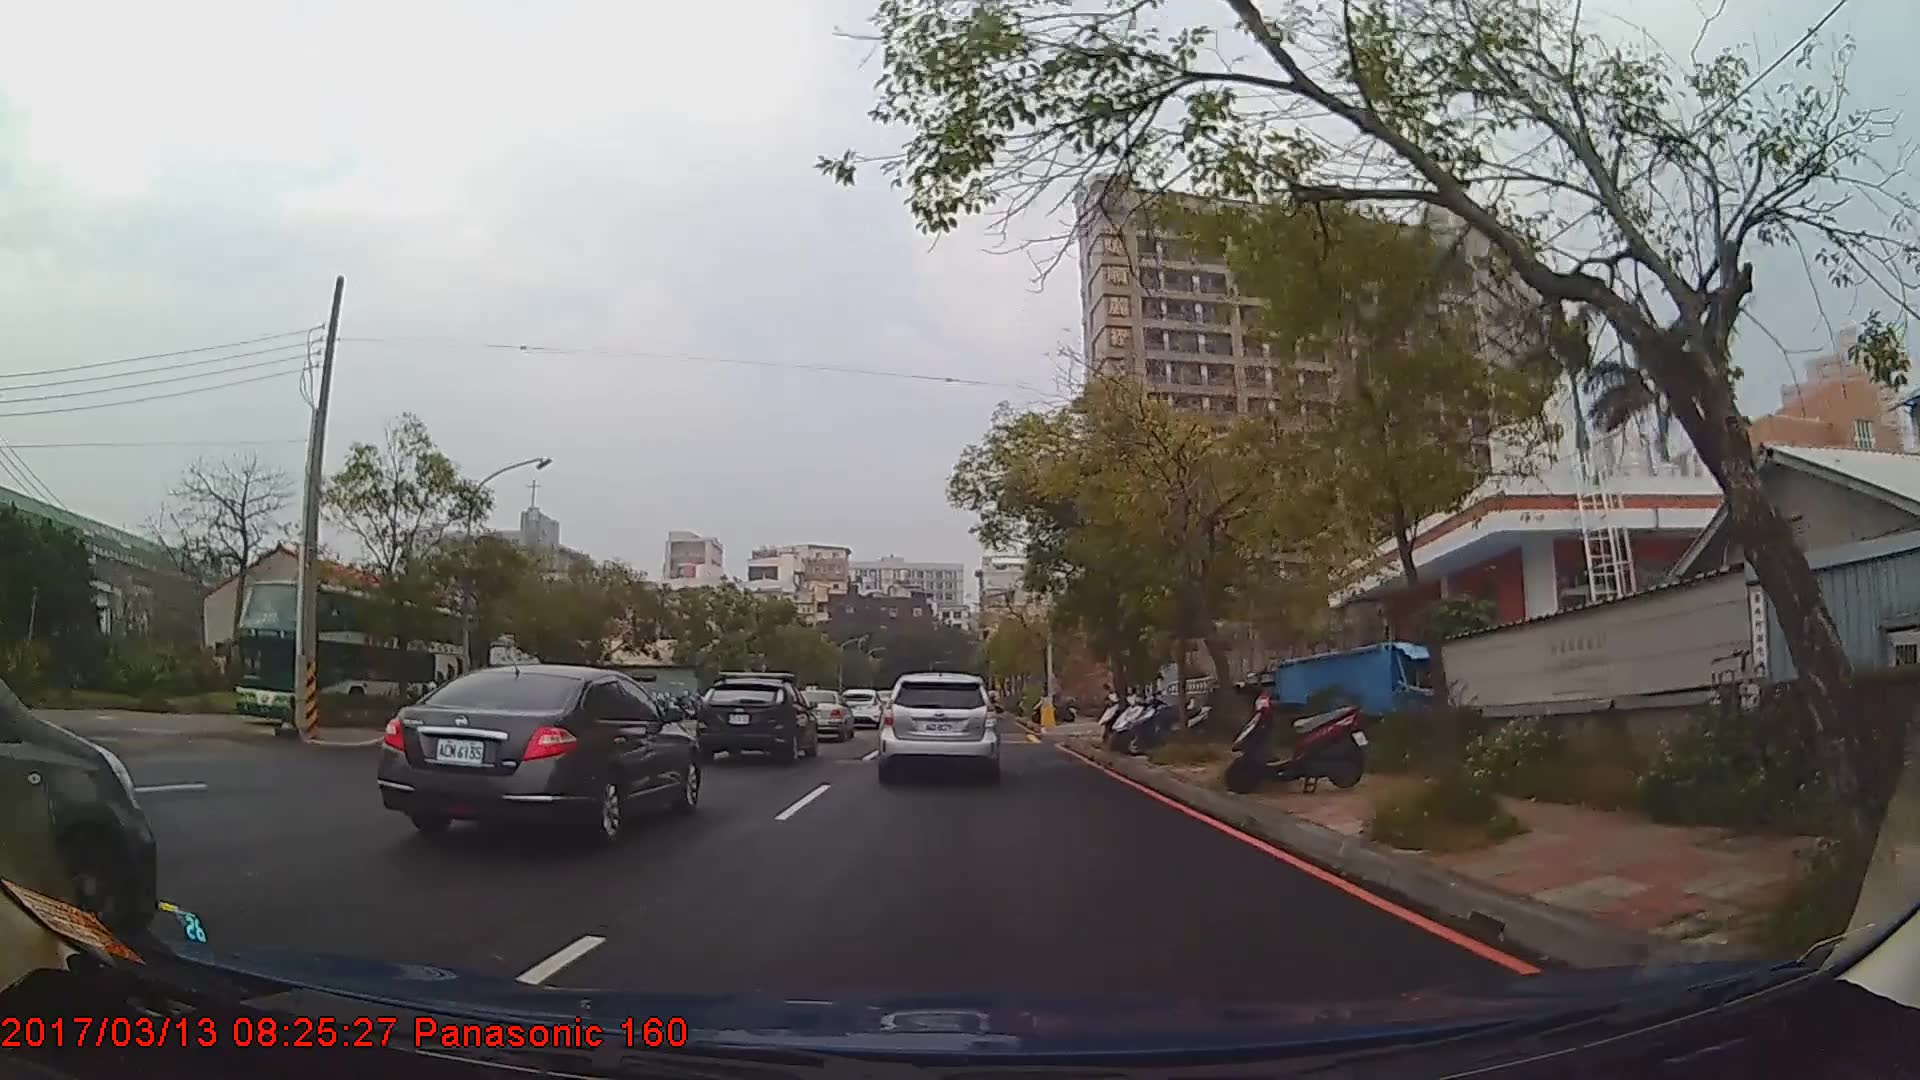vehicle: (378, 661, 700, 843), (231, 578, 465, 736), (878, 669, 1000, 779), (696, 669, 818, 764), (793, 684, 855, 738), (837, 686, 884, 727)
